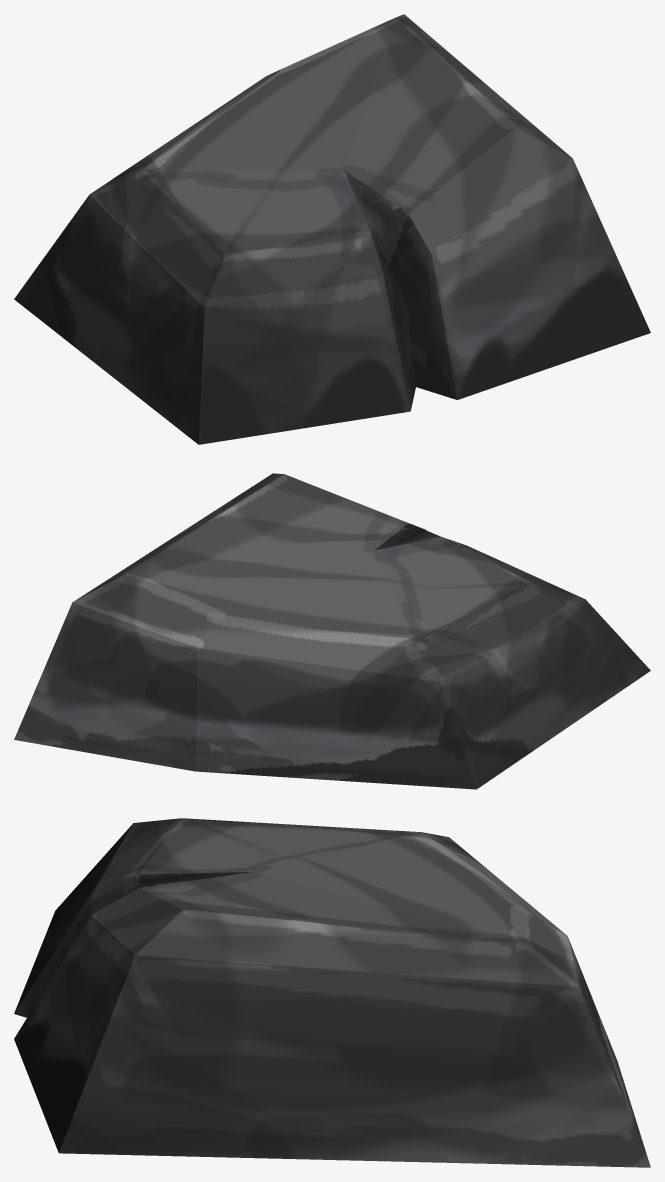
File: roca1.glb
3 renders of one model, top to bottom at view 1: azimuth 30°, elevation 25°; view 2: azimuth 150°, elevation 25°; view 3: azimuth 270°, elevation 25°, orthographic. The views are drawn at different scales.
Parts seen in each view (by area): view 1: Cube; view 2: Cube; view 3: Cube.
Part boxes in pixels (left/top/right/bottom): Cube: left=14, top=14, right=650, bottom=444; Cube: left=14, top=473, right=650, bottom=789; Cube: left=14, top=818, right=650, bottom=1167.
Bounding box in the file's own units: 6 × 2.19 × 6.28.
1 material, 1 textured.
